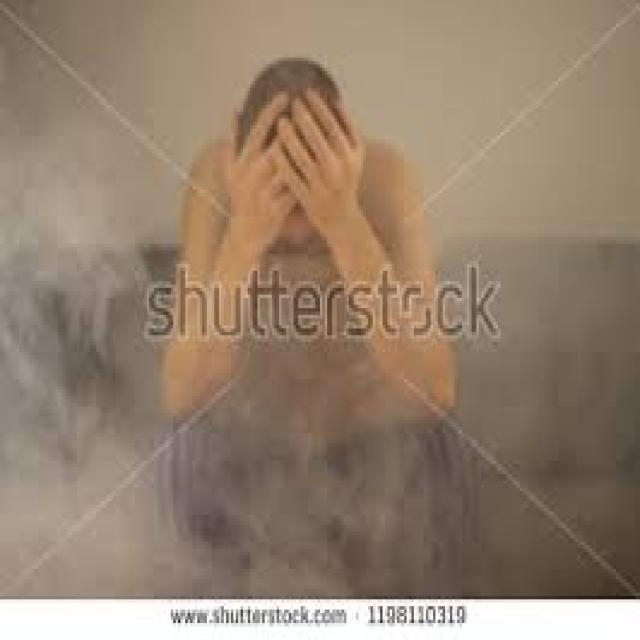Smoke: (168, 372, 450, 622), (471, 228, 640, 576), (0, 169, 153, 493)
